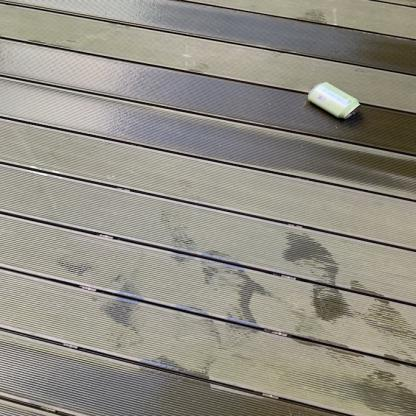trash: (310, 82, 364, 121)
